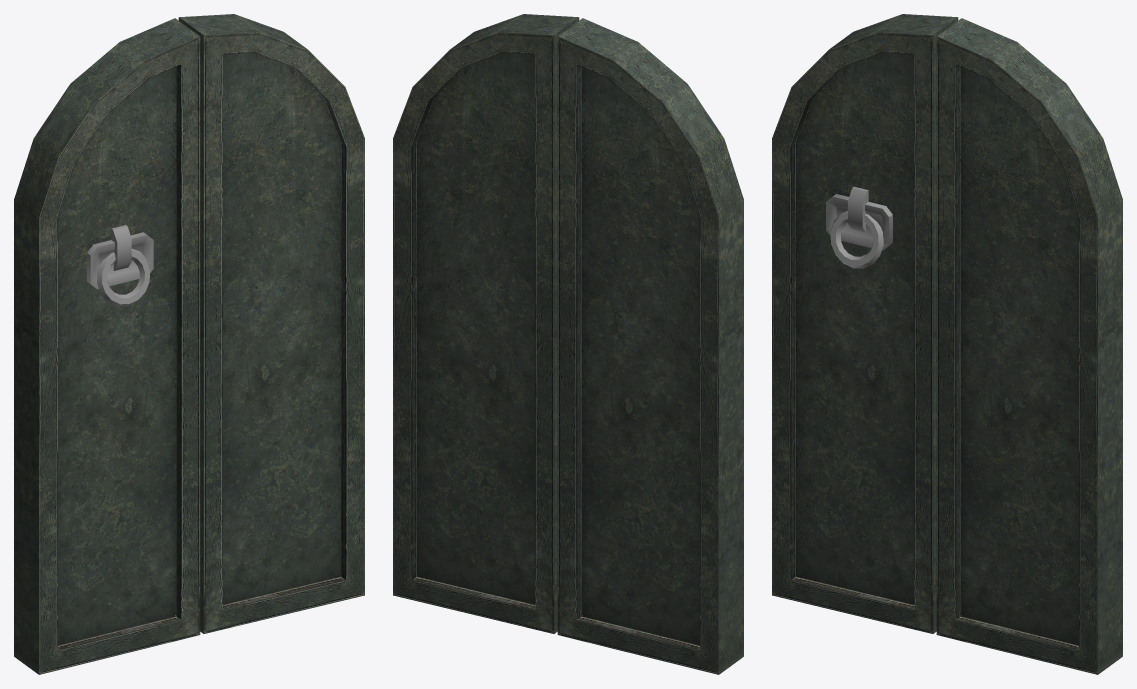
File: Mausoleum_Door.dae
The picture shows the model from 3 angles, left to right: view 1: azimuth 30°, elevation 25°; view 2: azimuth 150°, elevation 25°; view 3: azimuth 330°, elevation 25°; orthographic projection.
Visible parts, largest first — view 1: Mausoleum_Door; view 2: Mausoleum_Door; view 3: Mausoleum_Door.
Part boxes in pixels (x1,y1,x2,y2): Mausoleum_Door: (14, 14, 364, 674); Mausoleum_Door: (393, 14, 743, 674); Mausoleum_Door: (772, 14, 1122, 674).
Bounding box in the file's own units: 1.32 × 0.2161 × 2.32.
